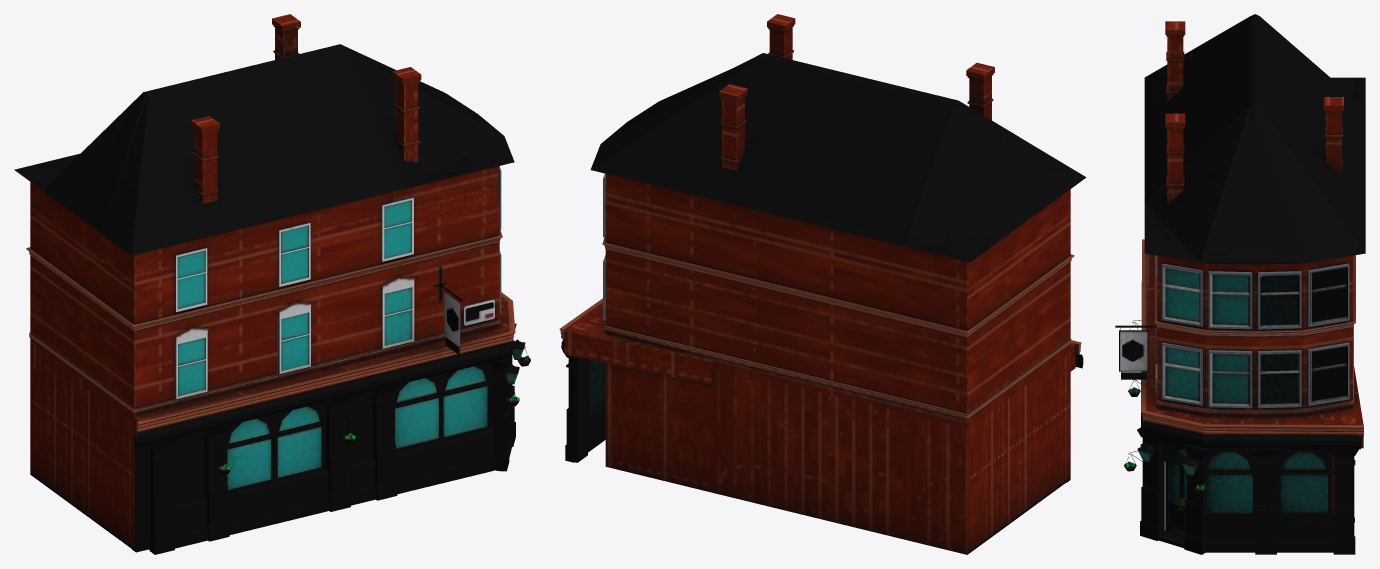
File: Building_TheGC_Optimized_Baked_GLTF_Test.glb
3 renders of one model, left to right at view 1: azimuth 30°, elevation 25°; view 2: azimuth 150°, elevation 25°; view 3: azimuth 270°, elevation 25°, orthographic. The views are drawn at different scales.
Parts seen in each view (by area): view 1: Building Details.1; view 2: Building Details.1; view 3: Building Details.1.
Part boxes in pixels (x1,y1,x2,y2): Building Details.1: (14,14,530,554); Building Details.1: (559,14,1086,554); Building Details.1: (1115,14,1365,554).
Bounding box in the file's own units: 235 × 214 × 126.
Materials: 1 (1 with a texture image).
